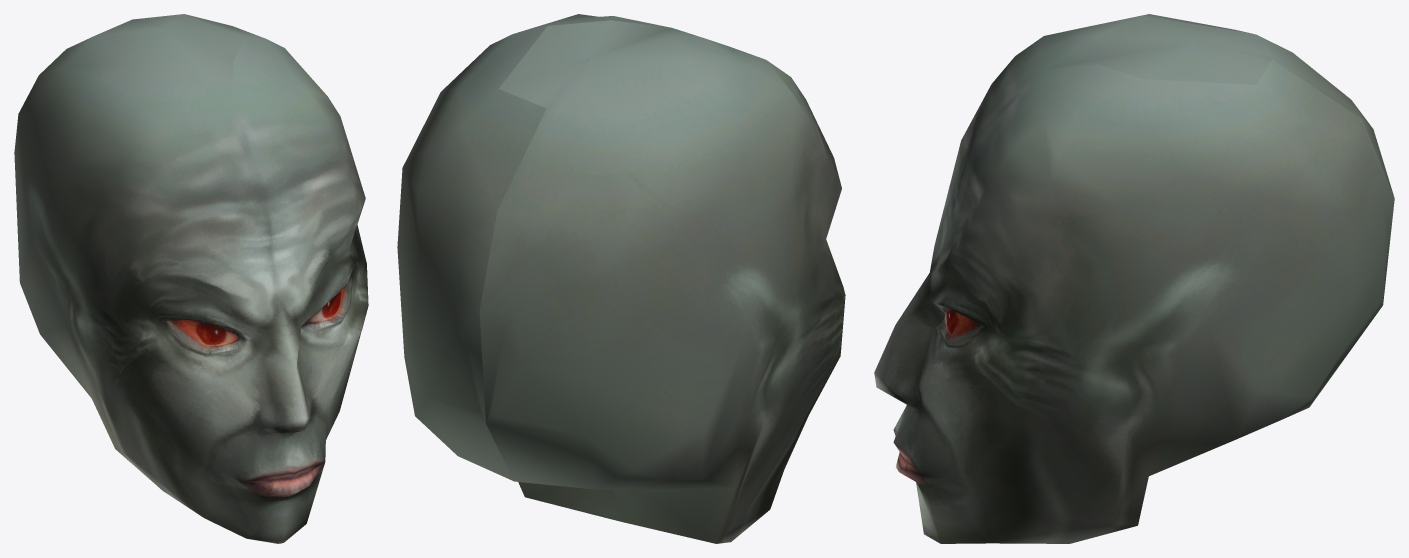
Rendered from b_n_dark elf_f_head_06.glb.
3 views of the same model, side by side, from view 1: azimuth 30°, elevation 25°; view 2: azimuth 150°, elevation 25°; view 3: azimuth 270°, elevation 25° (orthographic). The views are drawn at different scales.
Visible parts, largest first — view 1: Tri B_N_Dark Elf_F_Head_06; view 2: Tri B_N_Dark Elf_F_Head_06; view 3: Tri B_N_Dark Elf_F_Head_06.
Boxes of the visible parts, <box> form: Tri B_N_Dark Elf_F_Head_06: <box>14,14,368,543</box>; Tri B_N_Dark Elf_F_Head_06: <box>397,14,845,543</box>; Tri B_N_Dark Elf_F_Head_06: <box>874,14,1394,543</box>.
Size of the model in its own units: 0.0941 by 0.1498 by 0.1417.
Materials: 1 (1 with a texture image).
